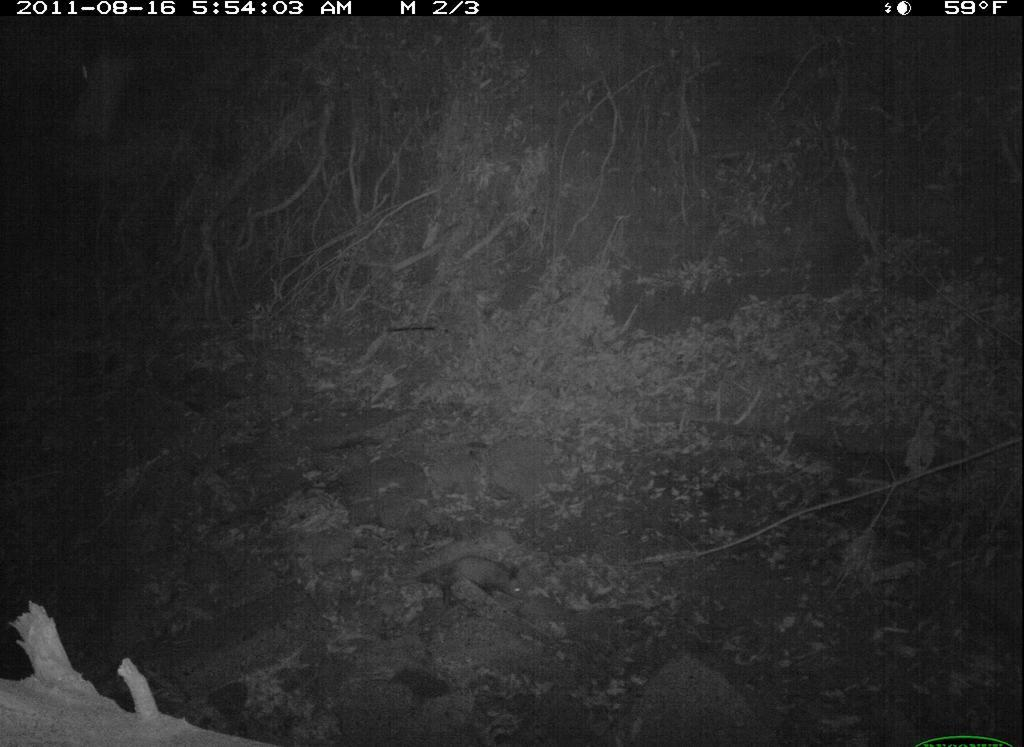opossum: (408, 537, 547, 623)
